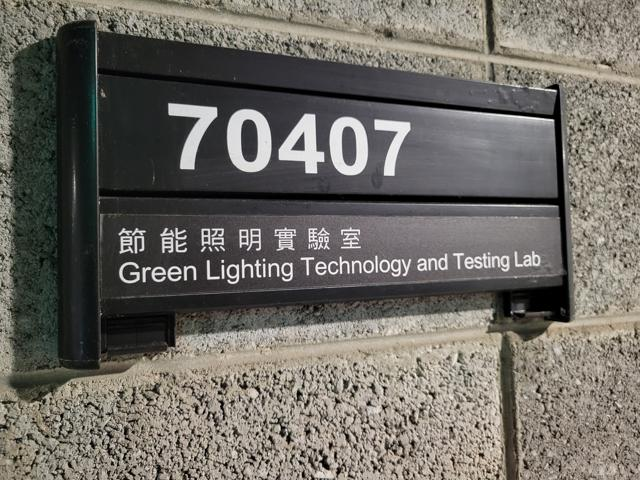doorplate: (50, 12, 586, 370)
